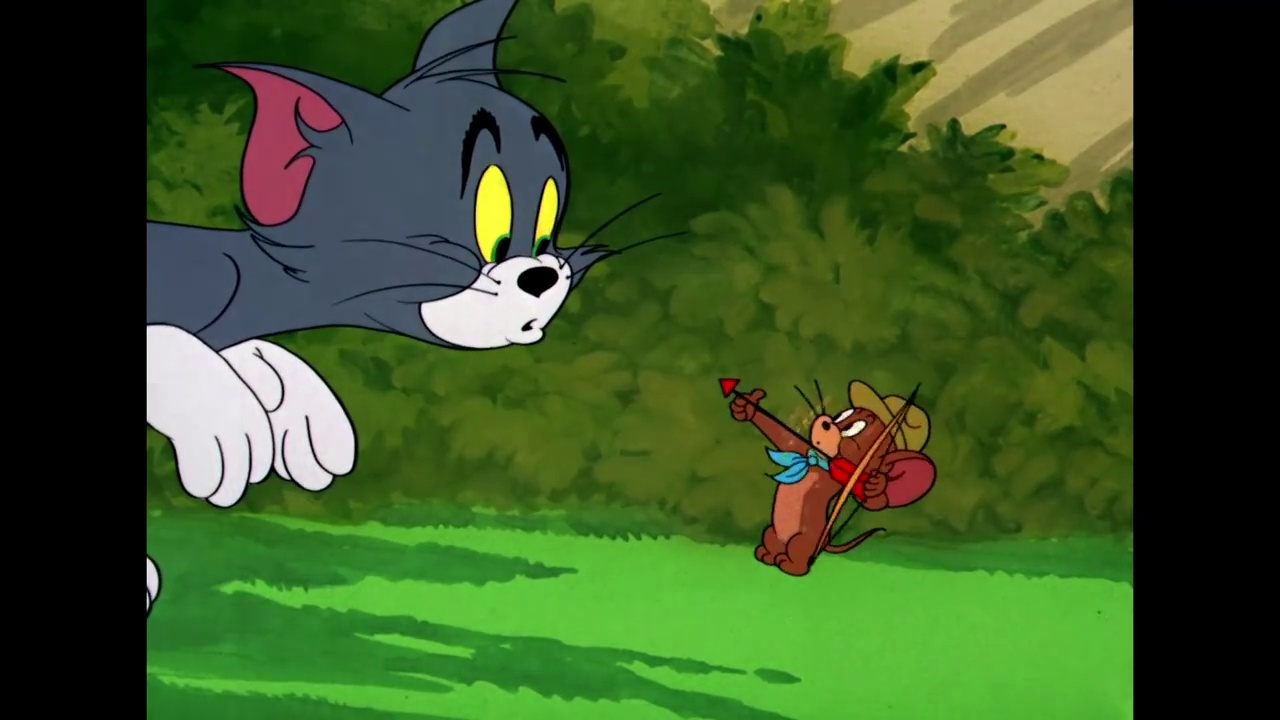tom: (203, 2, 607, 359)
